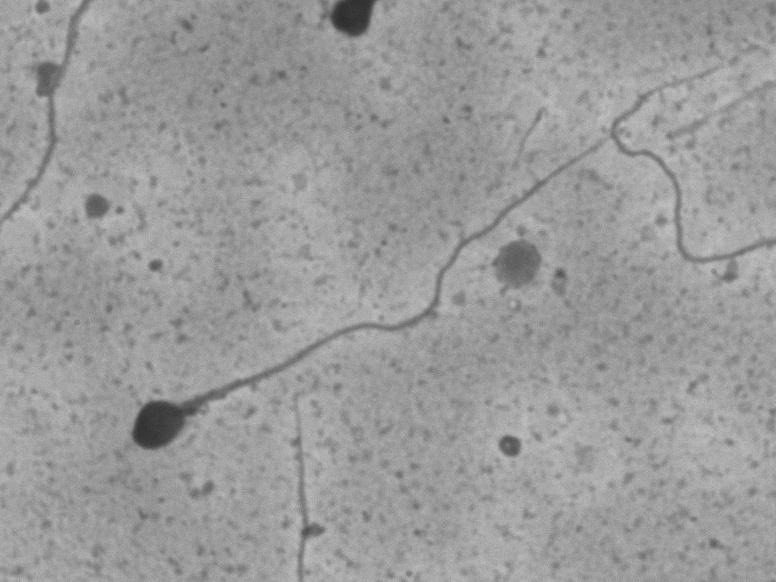Abnormal: (102, 125, 588, 475)
